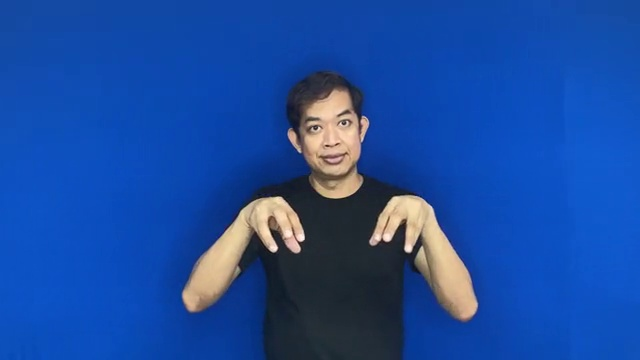egg: (232, 188, 437, 261)
